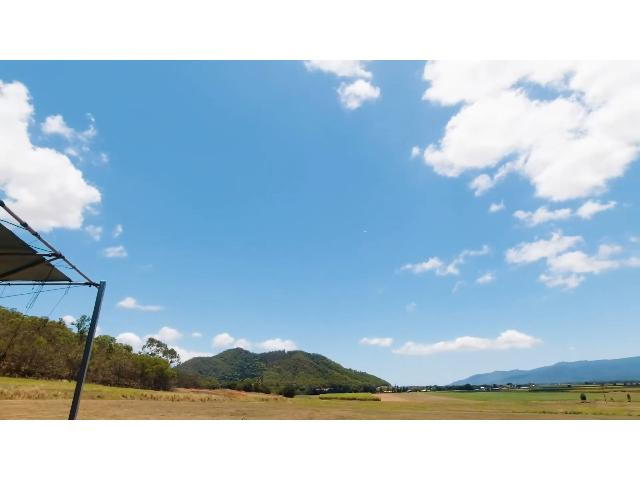Anti-Drone: (350, 224, 382, 242)
